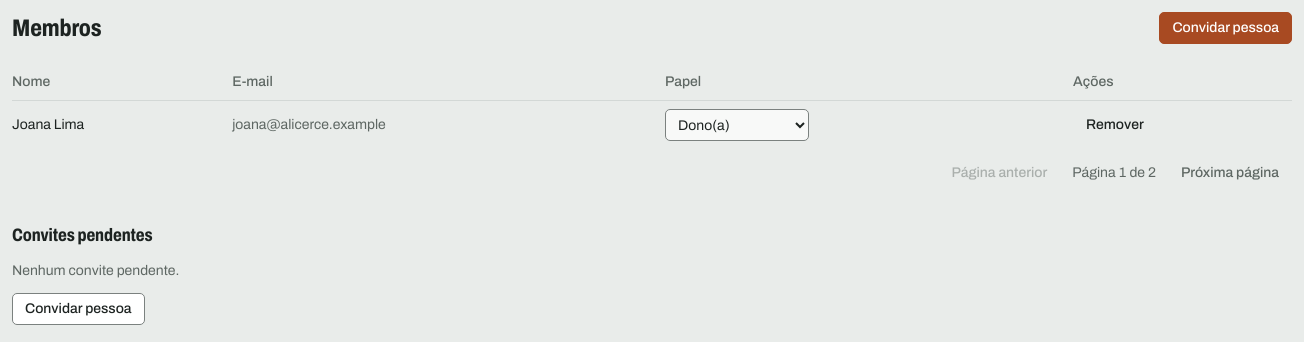
Test: MembersScreen › paginates the members list
The width and height of the screenshot is (1304, 342).
Expected: the text "Joana Lima" is shown, [12, 101, 232, 149]
Expected: the button "Página anterior" is disabled, [938, 157, 1060, 189]
Step 1. Click the button "Próxima página" → point(1230, 173), box [1168, 157, 1292, 189]
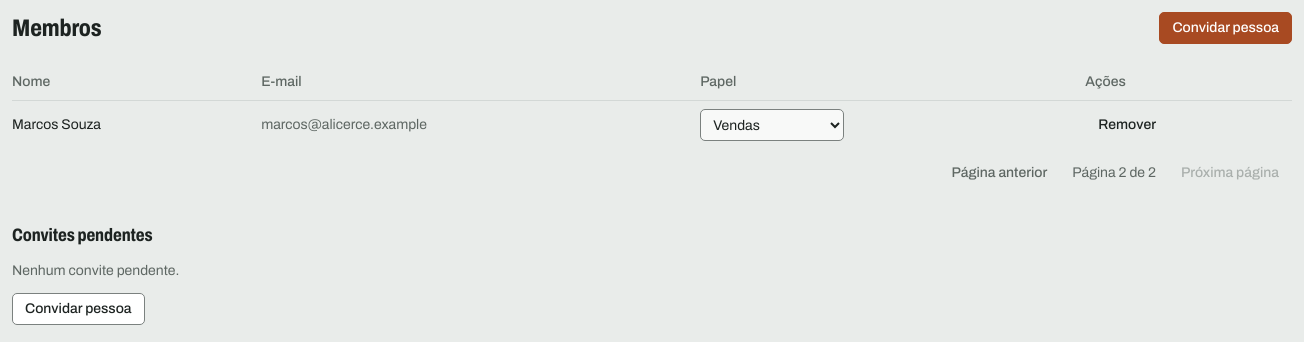
Result: the text "Marcos Souza" is shown at [12, 101, 261, 149]
Result: the button "Próxima página" is disabled at [1168, 157, 1292, 189]
Result: the button "Página anterior" is enabled at [938, 157, 1060, 189]
